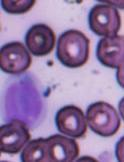L: (0, 70, 48, 130)
